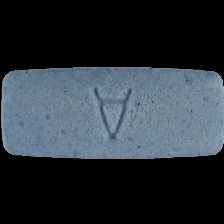61786-436: (0, 0, 224, 224)
